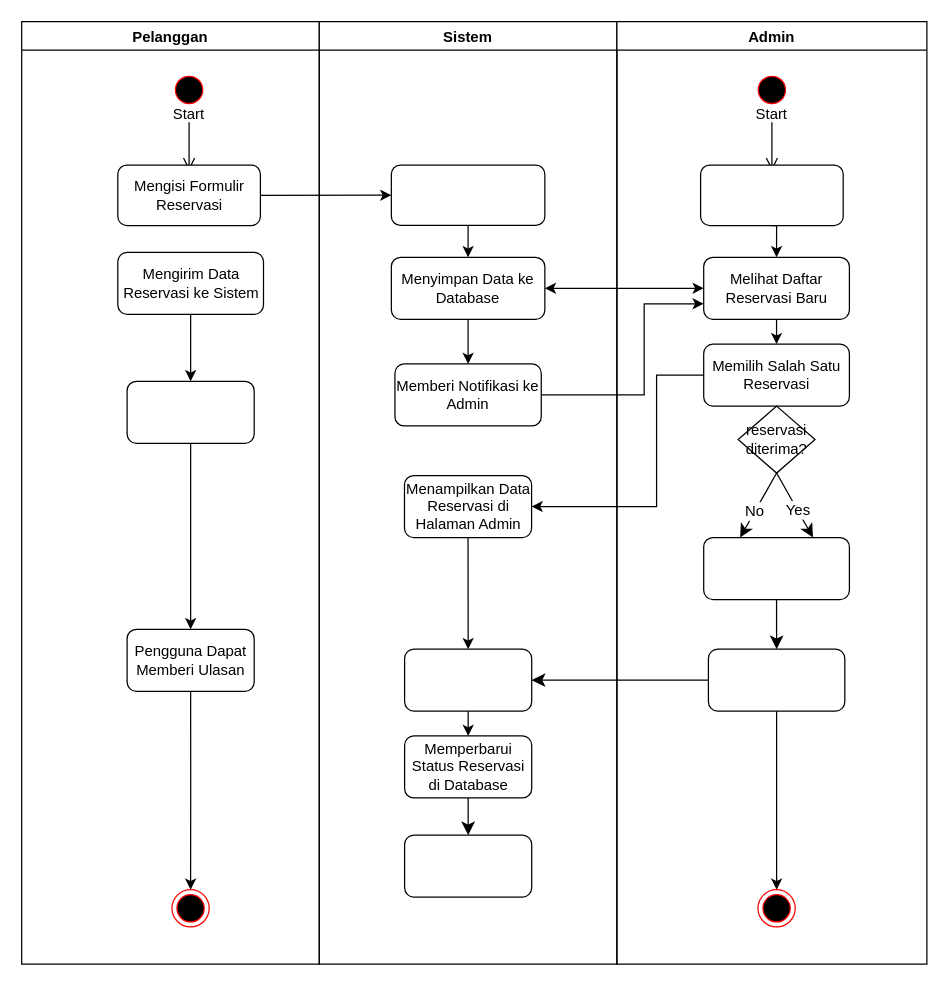
The diagram is 949 pixels wide and 986 high, and some of its shapes have lost their labels. The shapes that lost their labels are listed below. From the top down, each one's centre as x and y in pixels, then its label:
At point 467,194: "Menerima Data Reservasi dari Pelanggan".
At point 771,195: "Pilih Menu Kelola Reservasi".
At point 190,411: "Melihat Daftar Riwayat Service".
At point 775,568: "Mengubah Status Reservasi dan Menentukan Jadwal".
At point 467,679: "Menerima Tindakan Admin".
At point 776,679: "Kirim Perubahan ke Sistem".
At point 467,865: "Mengirim Notifikasi ke Pelanggan".
